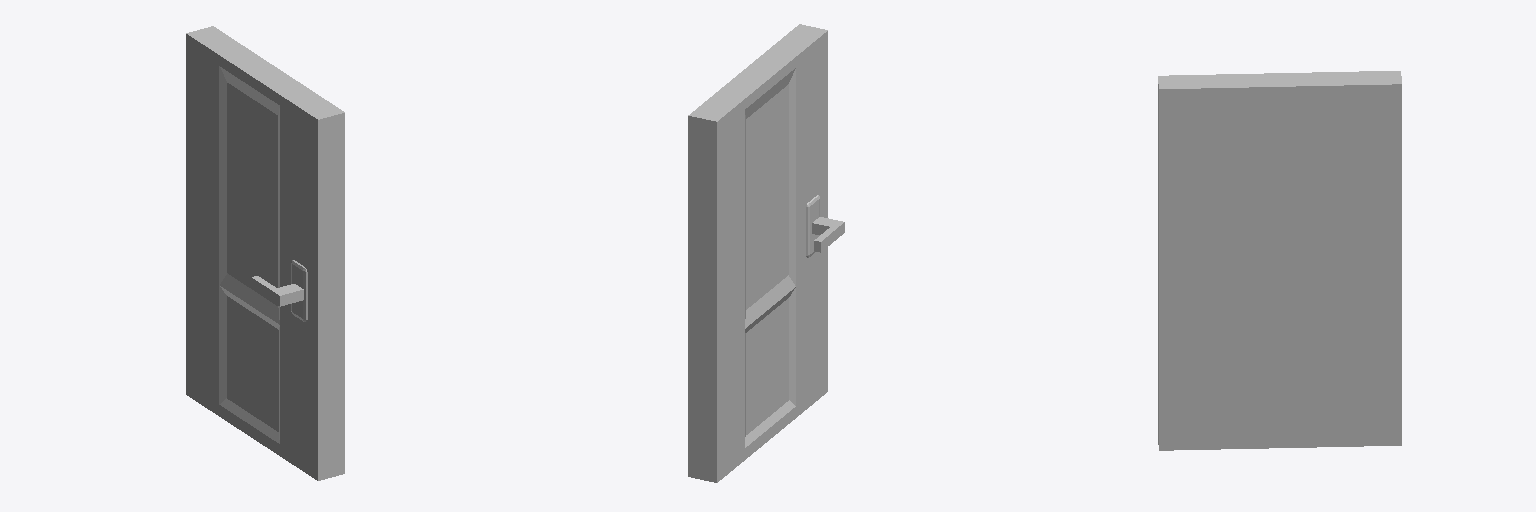
File: door model.obj
3 renders of one model, left to right at view 1: azimuth 30°, elevation 25°; view 2: azimuth 150°, elevation 25°; view 3: azimuth 270°, elevation 25°, orthographic.
Visible parts, largest first — view 1: door1_pCube43; view 2: door1_pCube43; view 3: door1_pCube43.
Part boxes in pixels (left/top/right/bottom): door1_pCube43: left=186, top=26, right=344, bottom=480; door1_pCube43: left=688, top=24, right=844, bottom=482; door1_pCube43: left=1158, top=71, right=1401, bottom=450.
Size of the model in its own units: 3.82 by 22.84 by 14.03.